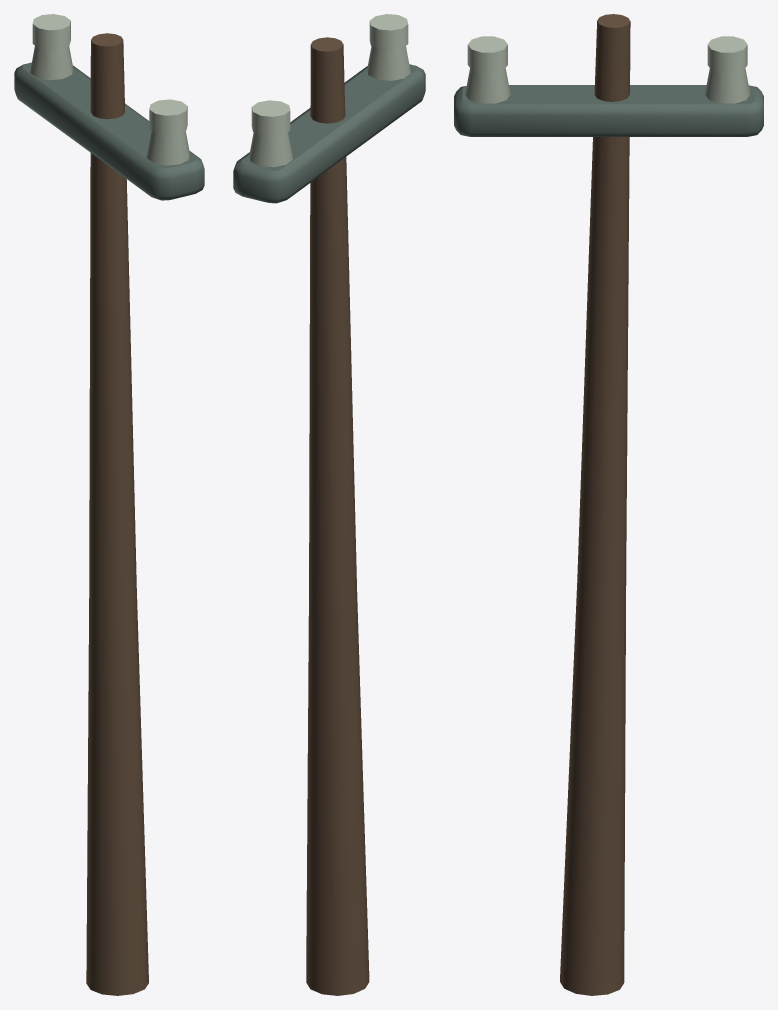
The model's file is pole.glb.
The picture shows the model from 3 angles, left to right: view 1: azimuth 30°, elevation 25°; view 2: azimuth 150°, elevation 25°; view 3: azimuth 270°, elevation 25°; orthographic projection. The views are drawn at different scales.
Visible parts, largest first — view 1: Pole; view 2: Pole; view 3: Pole.
Boxes of the visible parts, <box> form: Pole: <box>14,14,204,995</box>; Pole: <box>233,14,425,995</box>; Pole: <box>454,14,763,995</box>.
Bounding box in the file's own units: 0.266 × 4.38 × 1.28.
